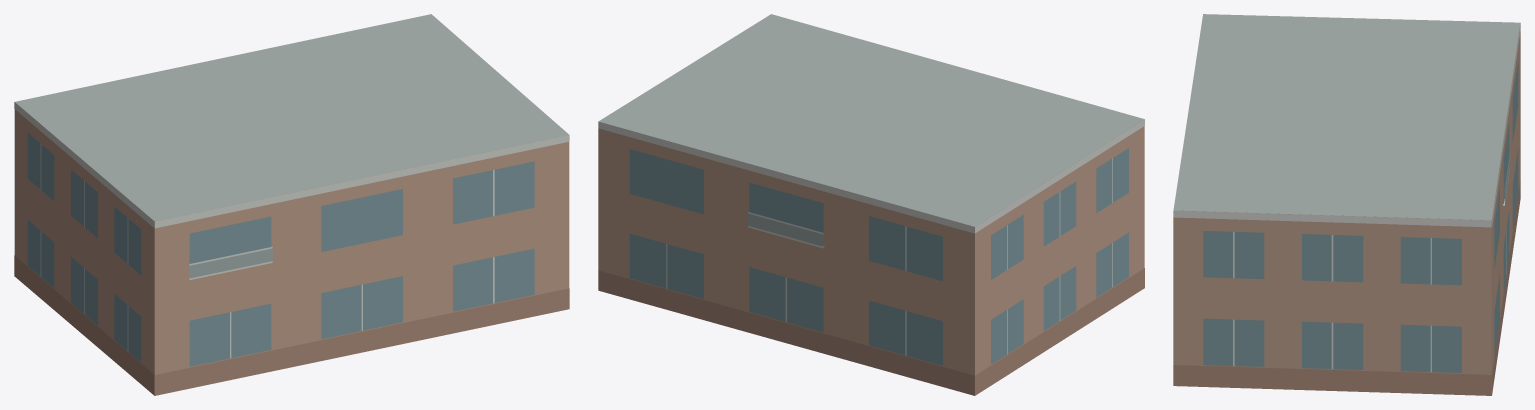
File: survey-upis-32863873.glb
3 views of the same model, side by side, from view 1: azimuth 30°, elevation 25°; view 2: azimuth 150°, elevation 25°; view 3: azimuth 270°, elevation 25° (orthographic). The views are drawn at different scales.
Visible parts, largest first — view 1: survey-upis-32863873.tmp; view 2: survey-upis-32863873.tmp; view 3: survey-upis-32863873.tmp.
Boxes of the visible parts, <box> form: survey-upis-32863873.tmp: <box>14,14,569,395</box>; survey-upis-32863873.tmp: <box>598,14,1144,395</box>; survey-upis-32863873.tmp: <box>1173,14,1520,395</box>.
Bounding box in the file's own units: 15.39 × 6.1 × 10.95.
